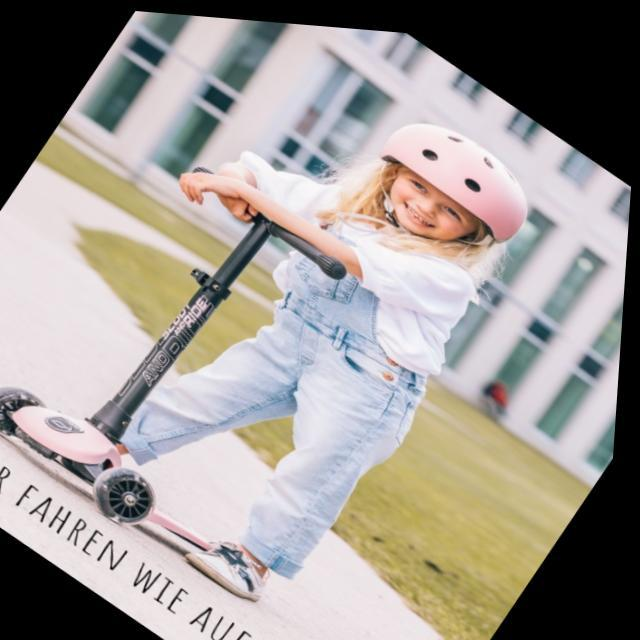Helmet: (366, 102, 537, 268)
